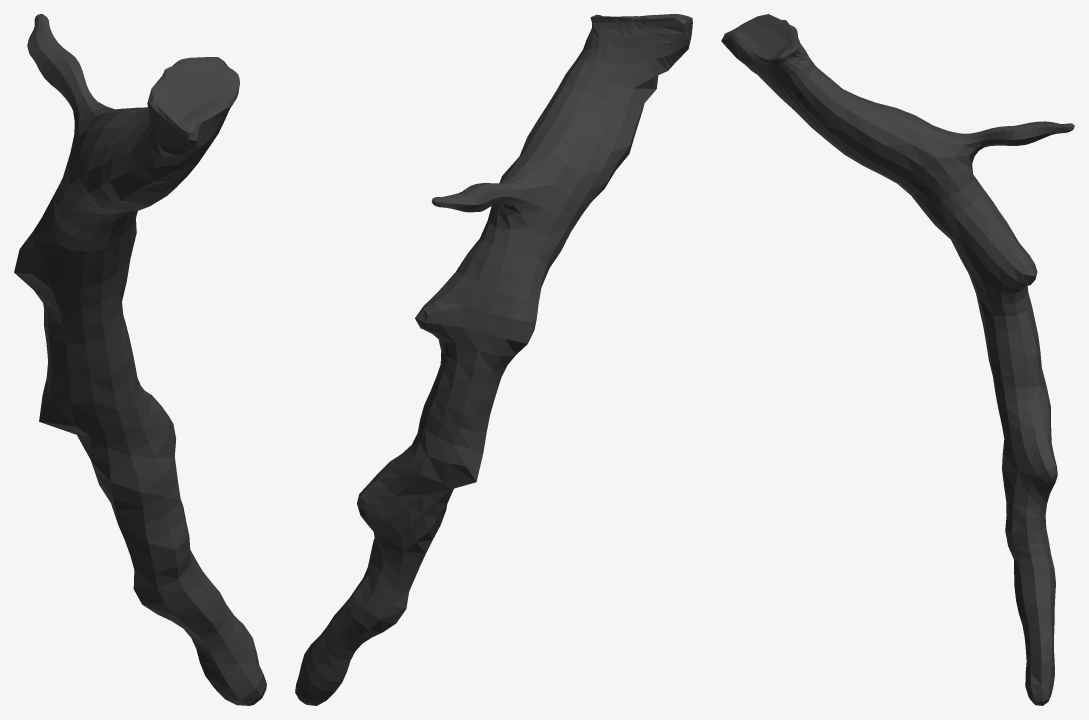
File: Right_middle_lobe_bronchus.glb
3 renders of one model, left to right at view 1: azimuth 30°, elevation 25°; view 2: azimuth 150°, elevation 25°; view 3: azimuth 270°, elevation 25°, orthographic. The views are drawn at different scales.
Parts seen in each view (by area): view 1: Right_middle_lobe_bronchus; view 2: Right_middle_lobe_bronchus; view 3: Right_middle_lobe_bronchus.
Boxes of the visible parts, <box> form: Right_middle_lobe_bronchus: <box>14,14,266,705</box>; Right_middle_lobe_bronchus: <box>295,14,692,705</box>; Right_middle_lobe_bronchus: <box>721,14,1074,705</box>.
Bounding box in the file's own units: 0.9618 × 2.45 × 1.32.
1 material, 1 textured.
